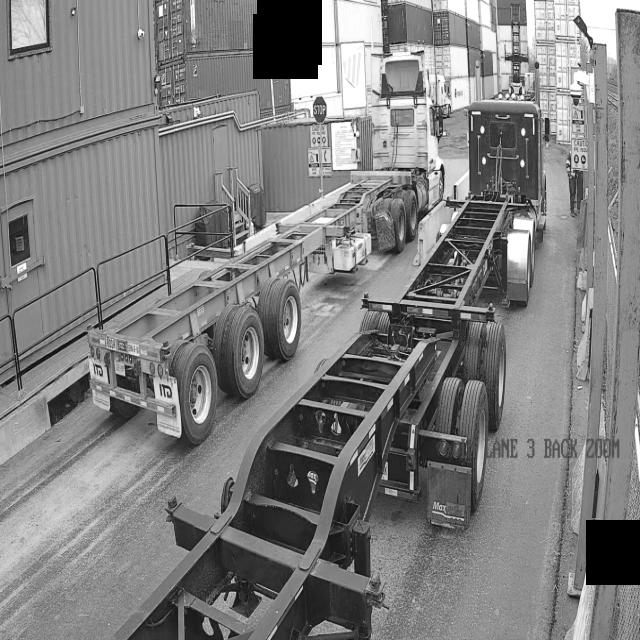driver: (566, 152, 580, 215)
truck_without_container: (116, 100, 544, 640), (88, 54, 444, 446)
